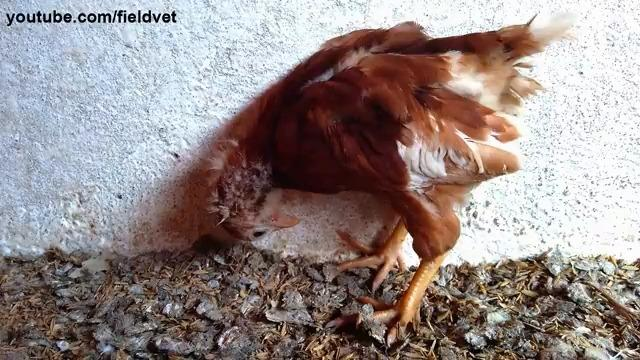AbNormal: (199, 36, 527, 317)
